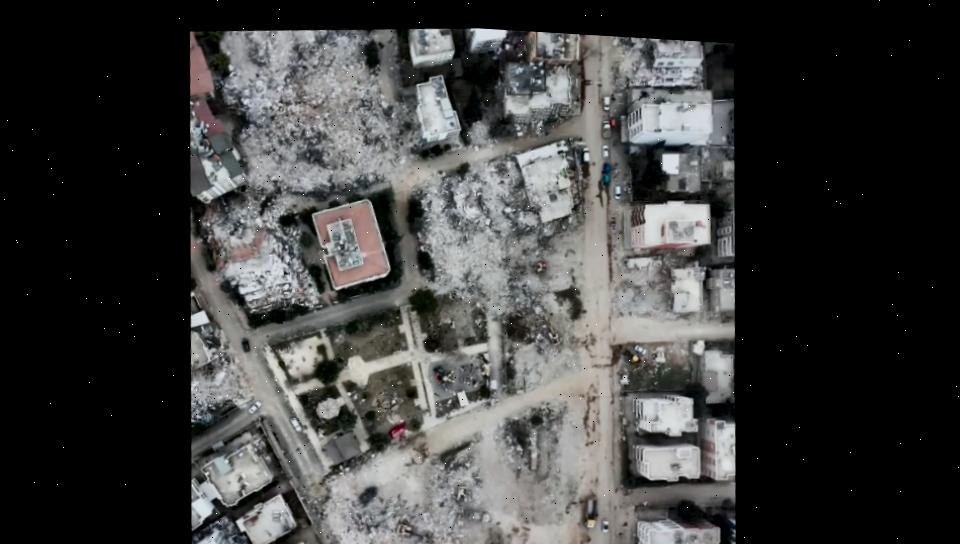kapali: (189, 158, 405, 247), (281, 446, 361, 544)
